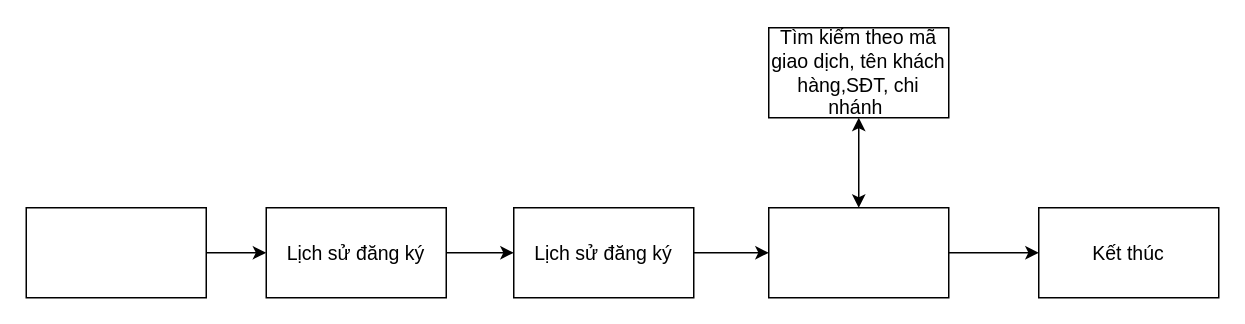
The diagram is 1245 pixels wide and 324 high, and some of its shapes have lost their labels. The box of each missing label's shape, as (x1, y1, x2, y2) in pixels:
Hệ thống hiển thị danh sách: (767, 206, 949, 298)
Manager truy cập hội viên: (25, 206, 206, 298)
